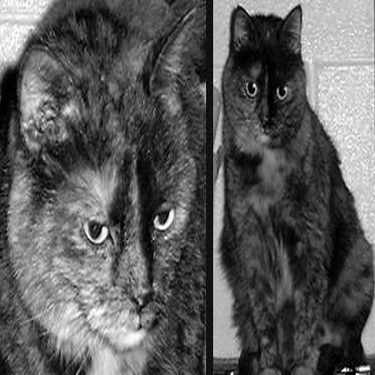cat: (11, 2, 201, 365), (218, 14, 372, 369)
